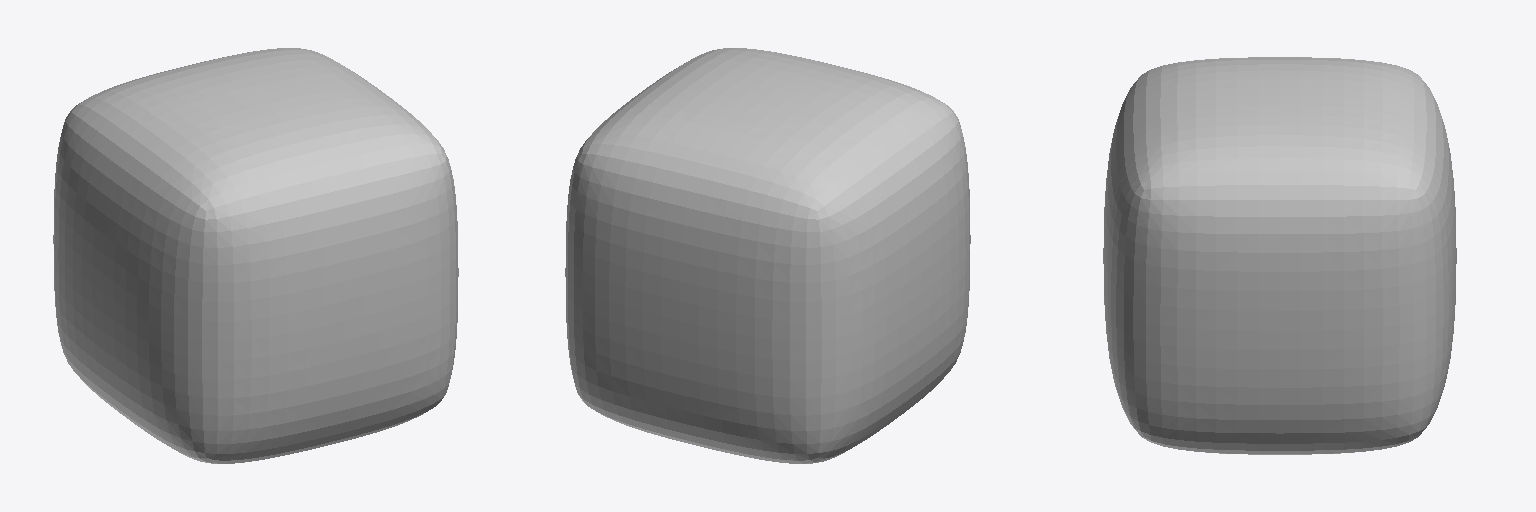
The model's file is CubeRounded.obj.
The picture shows the model from 3 angles: view 1: azimuth 30°, elevation 25°; view 2: azimuth 150°, elevation 25°; view 3: azimuth 270°, elevation 25°; orthographic projection.
Parts seen in each view (by area): view 1: Cube.004_Cube.006; view 2: Cube.004_Cube.006; view 3: Cube.004_Cube.006.
Part boxes in pixels (left/top/right/bottom): Cube.004_Cube.006: left=53, top=48, right=458, bottom=463; Cube.004_Cube.006: left=565, top=48, right=970, bottom=463; Cube.004_Cube.006: left=1103, top=57, right=1456, bottom=454.
Size of the model in its own units: 198 by 198 by 198.